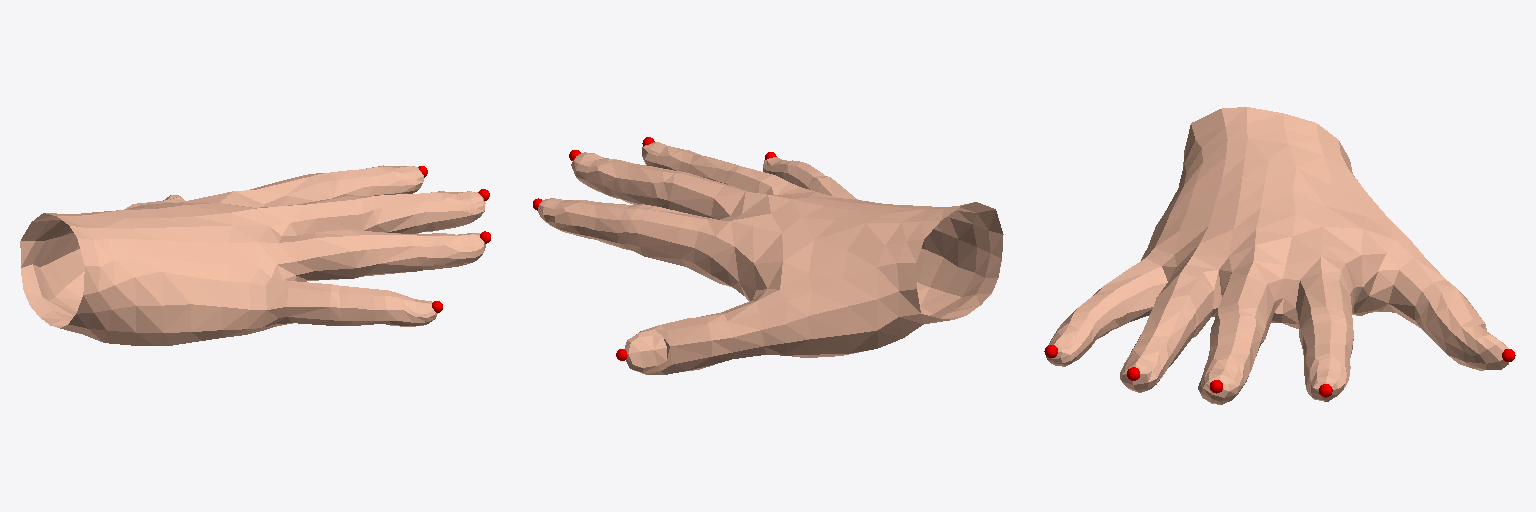
URDF robot description (mano_hand):
<?xml version='1.0' encoding='UTF-8'?>
<robot name="mano_hand">
  <material name="skin_color">
    <color rgba="0.95 0.75 0.65 1.0"/>
  </material>
  <material name="tip_marker_red">
    <color rgba="1.0 0.0 0.0 1.0"/>
  </material>
  <link name="base_link">
    <inertial>
      <origin xyz="0 0 0" rpy="0 0 0"/>
      <mass value="0.001"/>
      <inertia ixx="1e-6" ixy="0" ixz="0" iyy="1e-6" iyz="0" izz="1e-6"/>
    </inertial>
  </link>
  <joint name="ARTx" type="prismatic">
    <parent link="base_link"/>
    <child link="ARTx_link"/>
    <origin xyz="0 0 0" rpy="0 0 0"/>
    <axis xyz="1 0 0"/>
    <limit lower="-2.0" upper="2.0" effort="1000" velocity="100.0"/>
    <dynamics damping="1.0" friction="0.05"/>
  </joint>
  <link name="ARTx_link">
    <inertial>
      <origin xyz="0 0 0" rpy="0 0 0"/>
      <mass value="0.001"/>
      <inertia ixx="1e-6" ixy="0" ixz="0" iyy="1e-6" iyz="0" izz="1e-6"/>
    </inertial>
  </link>
  <joint name="ARTy" type="prismatic">
    <parent link="ARTx_link"/>
    <child link="ARTy_link"/>
    <origin xyz="0 0 0" rpy="0 0 0"/>
    <axis xyz="0 1 0"/>
    <limit lower="-2.0" upper="2.0" effort="1000" velocity="100.0"/>
    <dynamics damping="1.0" friction="0.05"/>
  </joint>
  <link name="ARTy_link">
    <inertial>
      <origin xyz="0 0 0" rpy="0 0 0"/>
      <mass value="0.001"/>
      <inertia ixx="1e-6" ixy="0" ixz="0" iyy="1e-6" iyz="0" izz="1e-6"/>
    </inertial>
  </link>
  <joint name="ARTz" type="prismatic">
    <parent link="ARTy_link"/>
    <child link="ARTz_link"/>
    <origin xyz="0 0 0" rpy="0 0 0"/>
    <axis xyz="0 0 1"/>
    <limit lower="-2.0" upper="2.0" effort="1000" velocity="100.0"/>
    <dynamics damping="1.0" friction="0.05"/>
  </joint>
  <link name="ARTz_link">
    <inertial>
      <origin xyz="0 0 0" rpy="0 0 0"/>
      <mass value="0.001"/>
      <inertia ixx="1e-6" ixy="0" ixz="0" iyy="1e-6" iyz="0" izz="1e-6"/>
    </inertial>
  </link>
  <joint name="ARRx" type="revolute">
    <parent link="ARTz_link"/>
    <child link="ARRx_link"/>
    <origin xyz="0 0 0" rpy="0 0 0"/>
    <axis xyz="1 0 0"/>
    <limit lower="-9.42478" upper="9.42478" effort="1000" velocity="100.0"/>
    <dynamics damping="1.0" friction="0.05"/>
  </joint>
  <link name="ARRx_link">
    <inertial>
      <origin xyz="0 0 0" rpy="0 0 0"/>
      <mass value="0.001"/>
      <inertia ixx="1e-6" ixy="0" ixz="0" iyy="1e-6" iyz="0" izz="1e-6"/>
    </inertial>
  </link>
  <joint name="ARRy" type="revolute">
    <parent link="ARRx_link"/>
    <child link="ARRy_link"/>
    <origin xyz="0 0 0" rpy="0 0 0"/>
    <axis xyz="0 1 0"/>
    <limit lower="-9.42478" upper="9.42478" effort="1000" velocity="100.0"/>
    <dynamics damping="1.0" friction="0.05"/>
  </joint>
  <link name="ARRy_link">
    <inertial>
      <origin xyz="0 0 0" rpy="0 0 0"/>
      <mass value="0.001"/>
      <inertia ixx="1e-6" ixy="0" ixz="0" iyy="1e-6" iyz="0" izz="1e-6"/>
    </inertial>
  </link>
  <joint name="ARRz" type="revolute">
    <parent link="ARRy_link"/>
    <child link="ARRz_link"/>
    <origin xyz="0 0 0" rpy="0 0 0"/>
    <axis xyz="0 0 1"/>
    <limit lower="-9.42478" upper="9.42478" effort="1000" velocity="100.0"/>
    <dynamics damping="1.0" friction="0.05"/>
  </joint>
  <link name="ARRz_link">
    <inertial>
      <origin xyz="0 0 0" rpy="0 0 0"/>
      <mass value="0.001"/>
      <inertia ixx="1e-6" ixy="0" ixz="0" iyy="1e-6" iyz="0" izz="1e-6"/>
    </inertial>
  </link>
  <joint name="palm_joint" type="fixed">
    <parent link="ARRz_link"/>
    <child link="palm"/>
    <origin xyz="0 0 0" rpy="1.5708 0 3.1416"/>
  </joint>
  <link name="palm">
    <inertial>
      <origin xyz="0 0 0" rpy="0 0 0"/>
      <mass value="0.02"/>
      <inertia ixx="1e-4" ixy="0" ixz="0" iyy="1e-4" iyz="0" izz="1e-4"/>
    </inertial>
    <visual>
      <geometry>
        <mesh filename="meshes/visual_palm.stl"/>
      </geometry>
      <material name="skin_color"/>
    </visual>
    <collision>
      <geometry>
        <mesh filename="meshes/palm.stl" scale="0.7 0.7 0.7"/>
      </geometry>
    </collision>
  </link>
  <joint name="j1_thumb_cmc_abd" type="revolute">
    <parent link="palm"/>
    <child link="thumb_cmc_abd"/>
    <origin xyz="-0.024292968 -0.015642606 0.025828749" rpy="0 0 0"/>
    <axis xyz="0.134694 0.9557816 0.26141733"/>
    <limit lower="-1.175" upper="2.621" effort="100.0" velocity="100.0"/>
  </joint>
  <link name="thumb_cmc_abd">
    <inertial>
      <origin xyz="0 0 0" rpy="0 0 0"/>
      <mass value="0.001"/>
      <inertia ixx="1e-6" ixy="0" ixz="0" iyy="1e-6" iyz="0" izz="1e-6"/>
    </inertial>
  </link>
  <joint name="j1_thumb_cmc_flex" type="revolute">
    <parent link="thumb_cmc_abd"/>
    <child link="thumb_cmc"/>
    <origin xyz="0 0 0" rpy="0 0 0"/>
    <axis xyz="0.9840313 -0.16000403 0.07798183"/>
    <limit lower="-2.0" upper="1.97" effort="100.0" velocity="100.0"/>
  </joint>
  <link name="thumb_cmc">
    <inertial>
      <origin xyz="0 0 0" rpy="0 0 0"/>
      <mass value="0.01"/>
      <inertia ixx="1e-5" ixy="0" ixz="0" iyy="1e-5" iyz="0" izz="1e-5"/>
    </inertial>
    <visual>
      <geometry>
        <mesh filename="meshes/visual_thumb1.stl"/>
      </geometry>
      <material name="skin_color"/>
    </visual>
    <collision>
      <geometry>
        <mesh filename="meshes/thumb1.stl"/>
      </geometry>
    </collision>
  </link>
  <joint name="j1_thumb_mcp" type="revolute">
    <parent link="thumb_cmc"/>
    <child link="thumb_mcp"/>
    <origin xyz="-0.019859985 0.00087318104 0.023900677" rpy="0 0 0"/>
    <axis xyz="0.37211032134150274 -0.8774214263772805 0.30276319010933617"/>
    <limit lower="0.0" upper="1.745" effort="100.0" velocity="100.0"/>
  </joint>
  <link name="thumb_mcp">
    <inertial>
      <origin xyz="0 0 0" rpy="0 0 0"/>
      <mass value="0.01"/>
      <inertia ixx="1e-5" ixy="0" ixz="0" iyy="1e-5" iyz="0" izz="1e-5"/>
    </inertial>
    <visual>
      <geometry>
        <mesh filename="meshes/visual_thumb2.stl"/>
      </geometry>
      <material name="skin_color"/>
    </visual>
    <collision>
      <geometry>
        <mesh filename="meshes/thumb2.stl"/>
      </geometry>
    </collision>
  </link>
  <joint name="j1_thumb_ip" type="revolute">
    <parent link="thumb_mcp"/>
    <child link="thumb_ip"/>
    <origin xyz="-0.022373643 -0.0054727467 0.014676705" rpy="0 0 0"/>
    <axis xyz="0.37211032134150274 -0.8774214263772805 0.30276319010933617"/>
    <limit lower="0.0" upper="1.745" effort="100.0" velocity="100.0"/>
  </joint>
  <link name="thumb_ip">
    <inertial>
      <origin xyz="0 0 0" rpy="0 0 0"/>
      <mass value="0.01"/>
      <inertia ixx="1e-5" ixy="0" ixz="0" iyy="1e-5" iyz="0" izz="1e-5"/>
    </inertial>
    <visual>
      <geometry>
        <mesh filename="meshes/visual_thumb3.stl"/>
      </geometry>
      <material name="skin_color"/>
    </visual>
    <visual>
      <origin xyz="-0.0263456143 -0.00291092787 0.0240017399" rpy="0 0 0"/>
      <geometry>
        <sphere radius="0.0025"/>
      </geometry>
      <material name="tip_marker_red"/>
    </visual>
    <collision>
      <geometry>
        <mesh filename="meshes/thumb3.stl"/>
      </geometry>
    </collision>
  </link>
  <joint name="j2_index_mcp_abd" type="revolute">
    <parent link="palm"/>
    <child link="index_mcp_abd"/>
    <origin xyz="-0.08863005 -0.0051813605 0.020730209" rpy="0 0 0"/>
    <axis xyz="0.0590695193758297 -0.9982538714579114 0.0"/>
    <limit lower="-0.349" upper="0.349" effort="100.0" velocity="100.0"/>
  </joint>
  <link name="index_mcp_abd">
    <inertial>
      <origin xyz="0 0 0" rpy="0 0 0"/>
      <mass value="0.001"/>
      <inertia ixx="1e-6" ixy="0" ixz="0" iyy="1e-6" iyz="0" izz="1e-6"/>
    </inertial>
  </link>
  <joint name="j2_index_mcp_flex" type="revolute">
    <parent link="index_mcp_abd"/>
    <child link="index_mcp"/>
    <origin xyz="0 0 0" rpy="0 0 0"/>
    <axis xyz="-0.00433171133081967 -0.000256319673484123 0.999990585244267"/>
    <limit lower="-0.175" upper="1.571" effort="100.0" velocity="100.0"/>
  </joint>
  <link name="index_mcp">
    <inertial>
      <origin xyz="0 0 0" rpy="0 0 0"/>
      <mass value="0.01"/>
      <inertia ixx="1e-5" ixy="0" ixz="0" iyy="1e-5" iyz="0" izz="1e-5"/>
    </inertial>
    <visual>
      <geometry>
        <mesh filename="meshes/visual_index1.stl"/>
      </geometry>
      <material name="skin_color"/>
    </visual>
    <collision>
      <geometry>
        <mesh filename="meshes/index1.stl"/>
      </geometry>
    </collision>
  </link>
  <joint name="j2_index_pip" type="revolute">
    <parent link="index_mcp"/>
    <child link="index_pip"/>
    <origin xyz="-0.03294396 0.0040400317 0.0022442043" rpy="0 0 0"/>
    <axis xyz="-0.00433171133081967 -0.000256319673484123 0.999990585244267"/>
    <limit lower="0.0" upper="1.745" effort="100.0" velocity="100.0"/>
  </joint>
  <link name="index_pip">
    <inertial>
      <origin xyz="0 0 0" rpy="0 0 0"/>
      <mass value="0.01"/>
      <inertia ixx="1e-5" ixy="0" ixz="0" iyy="1e-5" iyz="0" izz="1e-5"/>
    </inertial>
    <visual>
      <geometry>
        <mesh filename="meshes/visual_index2.stl"/>
      </geometry>
      <material name="skin_color"/>
    </visual>
    <collision>
      <geometry>
        <mesh filename="meshes/index2.stl"/>
      </geometry>
    </collision>
  </link>
  <joint name="j2_index_dip" type="revolute">
    <parent link="index_pip"/>
    <child link="index_dip"/>
    <origin xyz="-0.022366296 -0.0013234774 -9.722449e-05" rpy="0 0 0"/>
    <axis xyz="-0.00433171133081967 -0.000256319673484123 0.999990585244267"/>
    <limit lower="0.0" upper="1.745" effort="100.0" velocity="100.0"/>
  </joint>
  <link name="index_dip">
    <inertial>
      <origin xyz="0 0 0" rpy="0 0 0"/>
      <mass value="0.01"/>
      <inertia ixx="1e-5" ixy="0" ixz="0" iyy="1e-5" iyz="0" izz="1e-5"/>
    </inertial>
    <visual>
      <geometry>
        <mesh filename="meshes/visual_index3.stl"/>
      </geometry>
      <material name="skin_color"/>
    </visual>
    <visual>
      <origin xyz="-0.0257464424 0.00112603279 -0.00049120374" rpy="0 0 0"/>
      <geometry>
        <sphere radius="0.0025"/>
      </geometry>
      <material name="tip_marker_red"/>
    </visual>
    <collision>
      <geometry>
        <mesh filename="meshes/index3.stl"/>
      </geometry>
    </collision>
  </link>
  <joint name="j3_middle_mcp_abd" type="revolute">
    <parent link="palm"/>
    <child link="middle_mcp_abd"/>
    <origin xyz="-0.09510028 -0.0014773356 -0.0033902116" rpy="0 0 0"/>
    <axis xyz="0.05637632 -0.9982568 -0.017466702"/>
    <limit lower="-0.524" upper="0.349" effort="100.0" velocity="100.0"/>
  </joint>
  <link name="middle_mcp_abd">
    <inertial>
      <origin xyz="0 0 0" rpy="0 0 0"/>
      <mass value="0.001"/>
      <inertia ixx="1e-6" ixy="0" ixz="0" iyy="1e-6" iyz="0" izz="1e-6"/>
    </inertial>
  </link>
  <joint name="j3_middle_mcp_flex" type="revolute">
    <parent link="middle_mcp_abd"/>
    <child link="middle_mcp"/>
    <origin xyz="0 0 0" rpy="0 0 0"/>
    <axis xyz="-0.16596666 -0.026621182 0.985772"/>
    <limit lower="-0.175" upper="1.571" effort="100.0" velocity="100.0"/>
  </joint>
  <link name="middle_mcp">
    <inertial>
      <origin xyz="0 0 0" rpy="0 0 0"/>
      <mass value="0.01"/>
      <inertia ixx="1e-5" ixy="0" ixz="0" iyy="1e-5" iyz="0" izz="1e-5"/>
    </inertial>
    <visual>
      <geometry>
        <mesh filename="meshes/visual_middle1.stl"/>
      </geometry>
      <material name="skin_color"/>
    </visual>
    <collision>
      <geometry>
        <mesh filename="meshes/middle1.stl"/>
      </geometry>
    </collision>
  </link>
  <joint name="j3_middle_pip" type="revolute">
    <parent link="middle_mcp"/>
    <child link="middle_pip"/>
    <origin xyz="-0.03136718 0.0017886385 -0.0055849017" rpy="0 0 0"/>
    <axis xyz="-0.16596666 -0.026621182 0.985772"/>
    <limit lower="0.0" upper="1.745" effort="100.0" velocity="100.0"/>
  </joint>
  <link name="middle_pip">
    <inertial>
      <origin xyz="0 0 0" rpy="0 0 0"/>
      <mass value="0.01"/>
      <inertia ixx="1e-5" ixy="0" ixz="0" iyy="1e-5" iyz="0" izz="1e-5"/>
    </inertial>
    <visual>
      <geometry>
        <mesh filename="meshes/visual_middle2.stl"/>
      </geometry>
      <material name="skin_color"/>
    </visual>
    <collision>
      <geometry>
        <mesh filename="meshes/middle2.stl"/>
      </geometry>
    </collision>
  </link>
  <joint name="j3_middle_dip" type="revolute">
    <parent link="middle_pip"/>
    <child link="middle_dip"/>
    <origin xyz="-0.023086734 -0.0012352238 -0.0039202888" rpy="0 0 0"/>
    <axis xyz="-0.16596666 -0.026621182 0.985772"/>
    <limit lower="0.0" upper="1.745" effort="100.0" velocity="100.0"/>
  </joint>
  <link name="middle_dip">
    <inertial>
      <origin xyz="0 0 0" rpy="0 0 0"/>
      <mass value="0.01"/>
      <inertia ixx="1e-5" ixy="0" ixz="0" iyy="1e-5" iyz="0" izz="1e-5"/>
    </inertial>
    <visual>
      <geometry>
        <mesh filename="meshes/visual_middle3.stl"/>
      </geometry>
      <material name="skin_color"/>
    </visual>
    <visual>
      <origin xyz="-0.0259060226 0.00388130313 -0.00412793737" rpy="0 0 0"/>
      <geometry>
        <sphere radius="0.0025"/>
      </geometry>
      <material name="tip_marker_red"/>
    </visual>
    <collision>
      <geometry>
        <mesh filename="meshes/middle3.stl"/>
      </geometry>
    </collision>
  </link>
  <joint name="j4_ring_mcp_abd" type="revolute">
    <parent link="palm"/>
    <child link="ring_mcp_abd"/>
    <origin xyz="-0.08201213 -0.003977026 -0.026739623" rpy="0 0 0"/>
    <axis xyz="0.03150017 -0.9918027 0.12383518"/>
    <limit lower="-0.524" upper="0.349" effort="100.0" velocity="100.0"/>
  </joint>
  <link name="ring_mcp_abd">
    <inertial>
      <origin xyz="0 0 0" rpy="0 0 0"/>
      <mass value="0.001"/>
      <inertia ixx="1e-6" ixy="0" ixz="0" iyy="1e-6" iyz="0" izz="1e-6"/>
    </inertial>
  </link>
  <joint name="j4_ring_mcp_flex" type="revolute">
    <parent link="ring_mcp_abd"/>
    <child link="ring_mcp"/>
    <origin xyz="0 0 0" rpy="0 0 0"/>
    <axis xyz="-0.31221446 0.10793309 0.94386053"/>
    <limit lower="-0.175" upper="1.571" effort="100.0" velocity="100.0"/>
  </joint>
  <link name="ring_mcp">
    <inertial>
      <origin xyz="0 0 0" rpy="0 0 0"/>
      <mass value="0.01"/>
      <inertia ixx="1e-5" ixy="0" ixz="0" iyy="1e-5" iyz="0" izz="1e-5"/>
    </inertial>
    <visual>
      <geometry>
        <mesh filename="meshes/visual_ring1.stl"/>
      </geometry>
      <material name="skin_color"/>
    </visual>
    <collision>
      <geometry>
        <mesh filename="meshes/ring1.stl"/>
      </geometry>
    </collision>
  </link>
  <joint name="j4_ring_pip" type="revolute">
    <parent link="ring_mcp"/>
    <child link="ring_pip"/>
    <origin xyz="-0.02849395 0.002046734 -0.005198555" rpy="0 0 0"/>
    <axis xyz="-0.31221446 0.10793309 0.94386053"/>
    <limit lower="0.0" upper="1.745" effort="100.0" velocity="100.0"/>
  </joint>
  <link name="ring_pip">
    <inertial>
      <origin xyz="0 0 0" rpy="0 0 0"/>
      <mass value="0.01"/>
      <inertia ixx="1e-5" ixy="0" ixz="0" iyy="1e-5" iyz="0" izz="1e-5"/>
    </inertial>
    <visual>
      <geometry>
        <mesh filename="meshes/visual_ring2.stl"/>
      </geometry>
      <material name="skin_color"/>
    </visual>
    <collision>
      <geometry>
        <mesh filename="meshes/ring2.stl"/>
      </geometry>
    </collision>
  </link>
  <joint name="j4_ring_dip" type="revolute">
    <parent link="ring_pip"/>
    <child link="ring_dip"/>
    <origin xyz="-0.023749804 -0.0017107781 -0.0076604355" rpy="0 0 0"/>
    <axis xyz="-0.31221446 0.10793309 0.94386053"/>
    <limit lower="0.0" upper="1.745" effort="100.0" velocity="100.0"/>
  </joint>
  <link name="ring_dip">
    <inertial>
      <origin xyz="0 0 0" rpy="0 0 0"/>
      <mass value="0.01"/>
      <inertia ixx="1e-5" ixy="0" ixz="0" iyy="1e-5" iyz="0" izz="1e-5"/>
    </inertial>
    <visual>
      <geometry>
        <mesh filename="meshes/visual_ring3.stl"/>
      </geometry>
      <material name="skin_color"/>
    </visual>
    <visual>
      <origin xyz="-0.0246577561 0.00389345875 -0.00740448385" rpy="0 0 0"/>
      <geometry>
        <sphere radius="0.0025"/>
      </geometry>
      <material name="tip_marker_red"/>
    </visual>
    <collision>
      <geometry>
        <mesh filename="meshes/ring3.stl"/>
      </geometry>
    </collision>
  </link>
  <joint name="j5_pinky_mcp_abd" type="revolute">
    <parent link="palm"/>
    <child link="pinky_mcp_abd"/>
    <origin xyz="-0.06902851 -0.009978386 -0.04330099" rpy="0 0 0"/>
    <axis xyz="-0.1209395 -0.95987296 0.2530172"/>
    <limit lower="-0.698" upper="0.349" effort="100.0" velocity="100.0"/>
  </joint>
  <link name="pinky_mcp_abd">
    <inertial>
      <origin xyz="0 0 0" rpy="0 0 0"/>
      <mass value="0.001"/>
      <inertia ixx="1e-6" ixy="0" ixz="0" iyy="1e-6" iyz="0" izz="1e-6"/>
    </inertial>
  </link>
  <joint name="j5_pinky_mcp_flex" type="revolute">
    <parent link="pinky_mcp_abd"/>
    <child link="pinky_mcp"/>
    <origin xyz="0 0 0" rpy="0 0 0"/>
    <axis xyz="-0.53149396 0.27788937 0.80018234"/>
    <limit lower="-0.175" upper="1.571" effort="100.0" velocity="100.0"/>
  </joint>
  <link name="pinky_mcp">
    <inertial>
      <origin xyz="0 0 0" rpy="0 0 0"/>
      <mass value="0.01"/>
      <inertia ixx="1e-5" ixy="0" ixz="0" iyy="1e-5" iyz="0" izz="1e-5"/>
    </inertial>
    <visual>
      <geometry>
        <mesh filename="meshes/visual_pinky1.stl"/>
      </geometry>
      <material name="skin_color"/>
    </visual>
    <collision>
      <geometry>
        <mesh filename="meshes/pinky1.stl"/>
      </geometry>
    </collision>
  </link>
  <joint name="j5_pinky_pip" type="revolute">
    <parent link="pinky_mcp"/>
    <child link="pinky_pip"/>
    <origin xyz="-0.017146625 7.499661e-05 -0.012593895" rpy="0 0 0"/>
    <axis xyz="-0.53149396 0.27788937 0.80018234"/>
    <limit lower="0.0" upper="1.745" effort="100.0" velocity="100.0"/>
  </joint>
  <link name="pinky_pip">
    <inertial>
      <origin xyz="0 0 0" rpy="0 0 0"/>
      <mass value="0.01"/>
      <inertia ixx="1e-5" ixy="0" ixz="0" iyy="1e-5" iyz="0" izz="1e-5"/>
    </inertial>
    <visual>
      <geometry>
        <mesh filename="meshes/visual_pinky2.stl"/>
      </geometry>
      <material name="skin_color"/>
    </visual>
    <collision>
      <geometry>
        <mesh filename="meshes/pinky2.stl"/>
      </geometry>
    </collision>
  </link>
  <joint name="j5_pinky_dip" type="revolute">
    <parent link="pinky_pip"/>
    <child link="pinky_dip"/>
    <origin xyz="-0.016043449 -0.0007214993 -0.010405753" rpy="0 0 0"/>
    <axis xyz="-0.53149396 0.27788937 0.80018234"/>
    <limit lower="0.0" upper="1.745" effort="100.0" velocity="100.0"/>
  </joint>
  <link name="pinky_dip">
    <inertial>
      <origin xyz="0 0 0" rpy="0 0 0"/>
      <mass value="0.01"/>
      <inertia ixx="1e-5" ixy="0" ixz="0" iyy="1e-5" iyz="0" izz="1e-5"/>
    </inertial>
    <visual>
      <geometry>
        <mesh filename="meshes/visual_pinky3.stl"/>
      </geometry>
      <material name="skin_color"/>
    </visual>
    <visual>
      <origin xyz="-0.0173323415 0.00154354027 -0.0103627481" rpy="0 0 0"/>
      <geometry>
        <sphere radius="0.0025"/>
      </geometry>
      <material name="tip_marker_red"/>
    </visual>
    <collision>
      <geometry>
        <mesh filename="meshes/pinky3.stl"/>
      </geometry>
    </collision>
  </link>
</robot>

--- Render facts (derived) ---
The picture shows the robot from 3 angles, left to right: view 1: azimuth 30°, elevation 25°; view 2: azimuth 150°, elevation 25°; view 3: azimuth 270°, elevation 25°; orthographic projection.
Model mano_hand with 28 links and 27 joints (23 revolute, 3 prismatic, 1 fixed), rooted at base_link, posed all joints at 0.
Links seen in each view (by area): view 1: palm, ring_mcp, pinky_mcp, middle_mcp, ring_pip, thumb_cmc, middle_dip, middle_pip, ring_dip, index_mcp, pinky_pip, pinky_dip (+2 smaller); view 2: palm, thumb_cmc, thumb_mcp, thumb_ip, index_mcp, middle_mcp, index_pip, middle_dip, middle_pip, index_dip, ring_mcp, ring_dip (+3 smaller); view 3: palm, thumb_ip, thumb_mcp, middle_mcp, index_mcp, ring_mcp, middle_dip, index_dip, ring_pip, pinky_mcp, ring_dip, pinky_dip (+3 smaller).
Link boxes in pixels (x1,y1,x2,y2): palm: (20, 190, 296, 345); ring_mcp: (278, 230, 365, 281); pinky_mcp: (266, 278, 343, 326); middle_mcp: (279, 196, 382, 234); ring_pip: (354, 231, 432, 278); thumb_cmc: (40, 227, 84, 310); middle_dip: (415, 189, 489, 231); middle_pip: (373, 194, 430, 233); ring_dip: (422, 231, 490, 269); index_mcp: (250, 174, 332, 206); pinky_pip: (332, 284, 397, 325); pinky_dip: (385, 291, 442, 326); palm: (694, 187, 1003, 347); thumb_cmc: (780, 273, 877, 357); thumb_mcp: (707, 289, 786, 363); thumb_ip: (616, 315, 714, 374); index_mcp: (627, 204, 716, 273); middle_mcp: (651, 172, 747, 219); index_pip: (581, 202, 643, 250); middle_dip: (569, 150, 633, 198); middle_pip: (608, 164, 680, 206); index_dip: (533, 198, 599, 237); ring_mcp: (725, 165, 799, 194); ring_dip: (642, 137, 701, 170); palm: (1131, 107, 1393, 327); thumb_ip: (1421, 289, 1515, 370); thumb_mcp: (1369, 236, 1456, 333); middle_mcp: (1211, 261, 1295, 345); index_mcp: (1284, 271, 1352, 341); ring_mcp: (1154, 256, 1223, 337); middle_dip: (1198, 342, 1251, 404); index_dip: (1304, 343, 1350, 401); ring_pip: (1132, 299, 1196, 366); pinky_mcp: (1093, 266, 1167, 330); ring_dip: (1120, 336, 1172, 392); pinky_dip: (1044, 314, 1095, 366).
Size in the robot's own frame: 0.1965 by 0.1701 by 0.0617 metres.
Meshes: 16 distinct files referenced, 16 mesh visuals loaded (16 binary STL).
